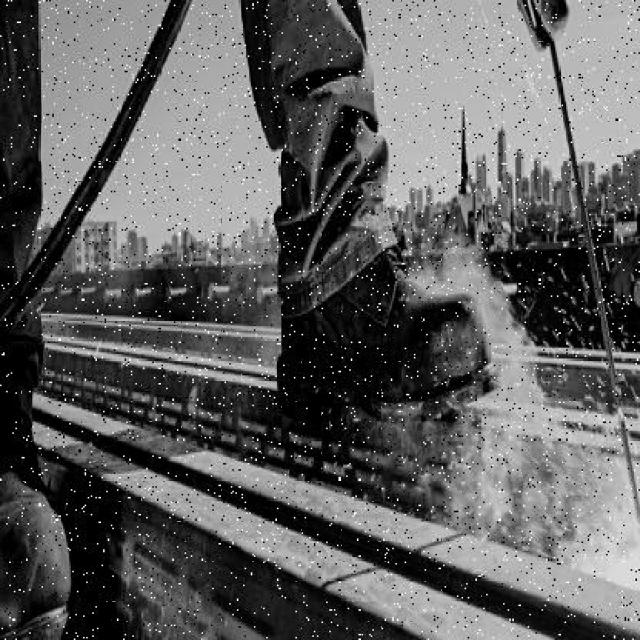shoes: (266, 262, 492, 423), (0, 406, 77, 637)
